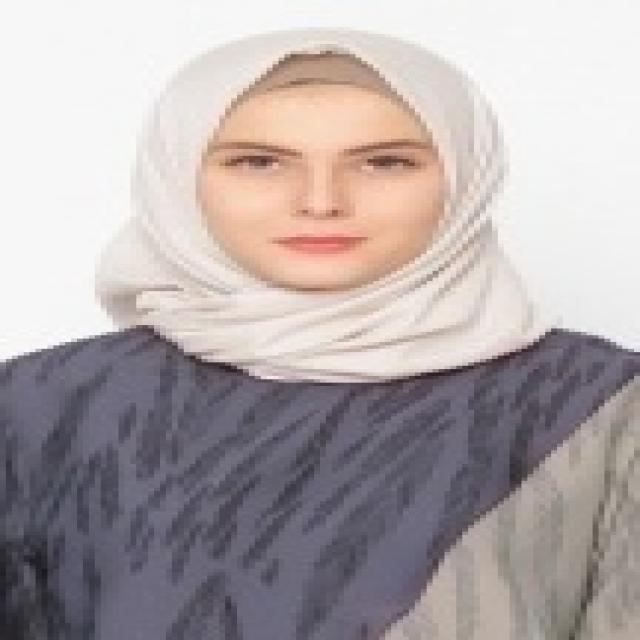head: (132, 27, 527, 300)
